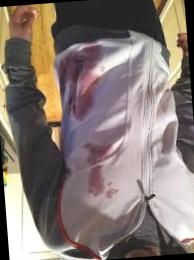wine: (70, 49, 103, 124), (82, 147, 104, 198), (77, 140, 119, 166), (59, 59, 78, 106), (102, 180, 120, 199)
